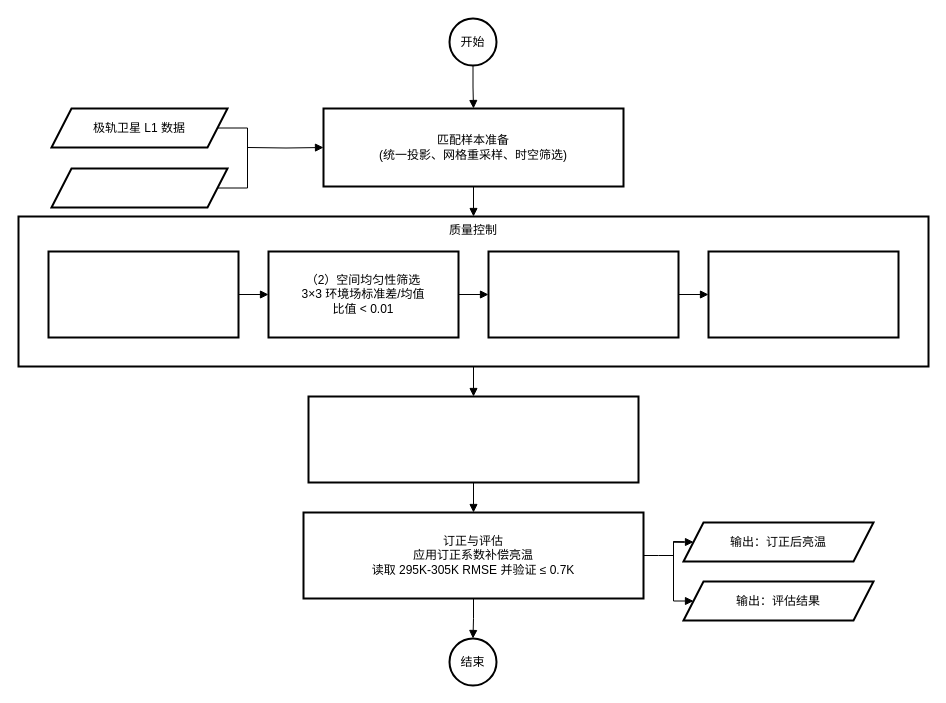
Image size: 946x703. Some labels were removed from this diagram. The shapes that lost their labels are listed below. From the top down, each one's box as (x1, y1, x2, y2) in pixels, then its label:
(50, 167, 228, 208): 静止卫星 L1 数据
(47, 250, 239, 338): （1）星下点距离约束 计算观测天顶角 静止卫星 VZA ≤ 35°
(487, 250, 679, 338): （3）几何一致性约束 两星 VZA 余弦差异 控制在 1% 以内
(707, 250, 899, 338): （4）亮温范围控制 有效亮温 200K-320K 过滤物理异常值
(307, 395, 639, 483): 偏差建模与平滑 累积 ≥10 天高质量匹配样本对 鲁棒线性回归建模 + 7 日滑动平均
